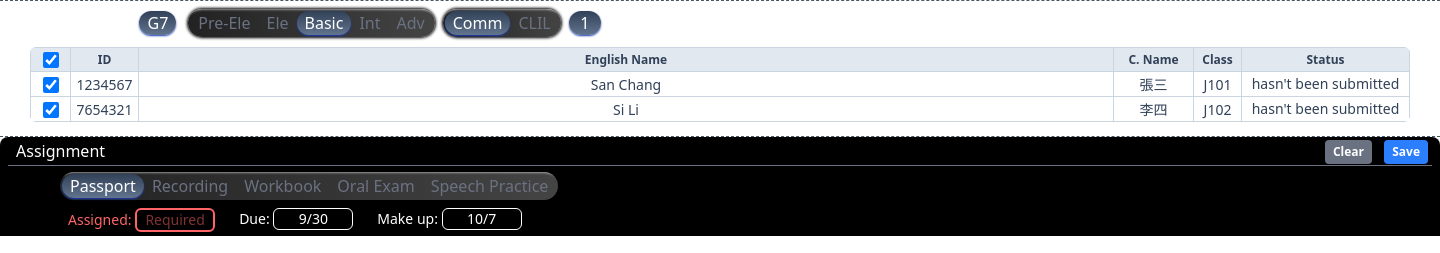
it: AssignmentForm save-state (lives in the store interface) › hides Save after saving and re-shows it on the next edit
Click the button "Save". click: (1406, 152)
box: [1384,140,1428,164]
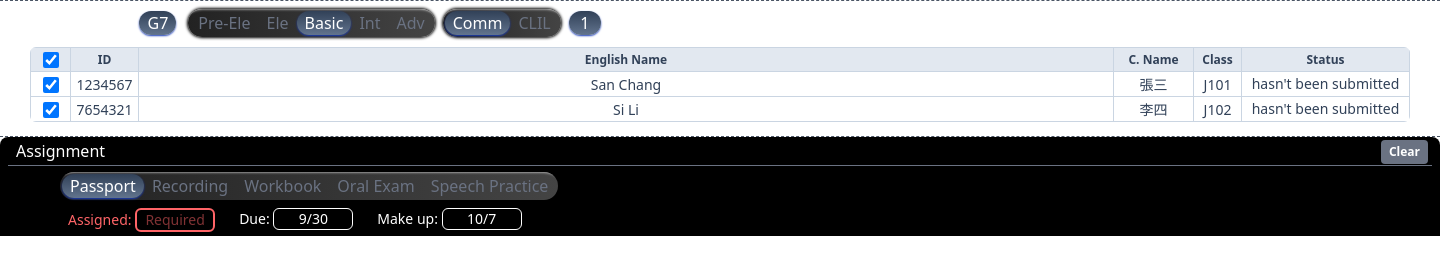
Replace the text in the field labelled "Due:" with "08/20". click: (313, 219)
box: [273,208,353,230]
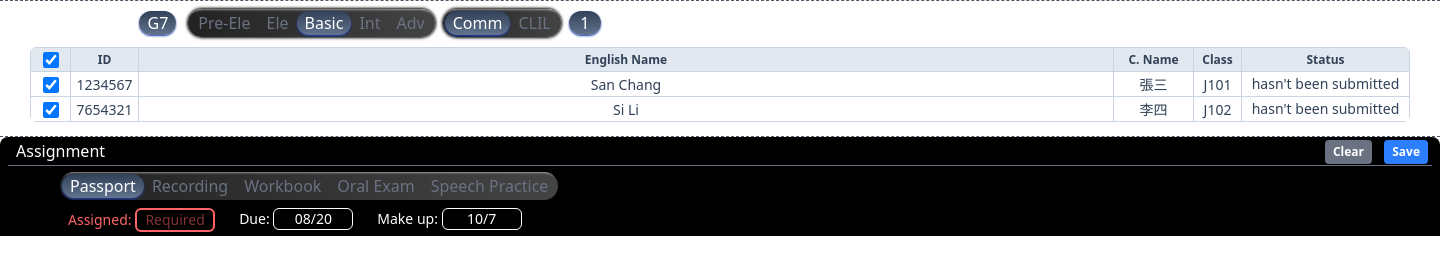
Expected: the button "Save" is shown, [1384,140,1428,164]
